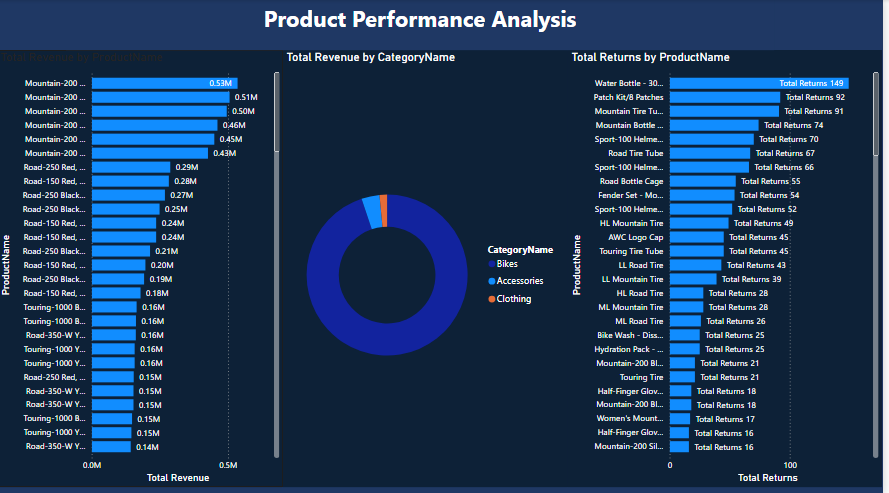

What the dashboard file says about the page in this screenshot:
{"tool":"powerbi","page":{"name":"Product Deep Dive","canvas":[1280,720],"ordinal":2},"visuals":[{"type":"clusteredBarChart","fields":{"Category":["AdventureWorks_Products.ProductName"],"Y":["Measures (5).Total Revenue"]},"box":[0,73.7,413.5,631.8],"z":0},{"type":"donutChart","fields":{"Category":["AdventureWorks_Product_Categories.CategoryName"],"Y":["Measures (5).Total Revenue"]},"box":[413.5,73.7,412,631.8],"z":1000},{"type":"barChart","fields":{"Category":["AdventureWorks_Products.ProductName"],"Y":["Measures (5).Total Returns"]},"box":[825.5,73.7,454,631.8],"z":2000},{"type":"textbox","box":[99.8,0,1023.6,73.7],"z":2001}]}

Visuals, with their boxes in screenshot pixels (x1, y1, x2, y2), scaled from the page's 1280x720 canvas onto the 889x493 screenshot:
clusteredBarChart - AdventureWorks_Products.ProductName x Measures (5).Total Revenue: select_region(0, 50, 287, 483)
donutChart - AdventureWorks_Product_Categories.CategoryName x Measures (5).Total Revenue: select_region(287, 50, 573, 483)
barChart - AdventureWorks_Products.ProductName x Measures (5).Total Returns: select_region(573, 50, 888, 483)
textbox: select_region(69, 0, 780, 50)
